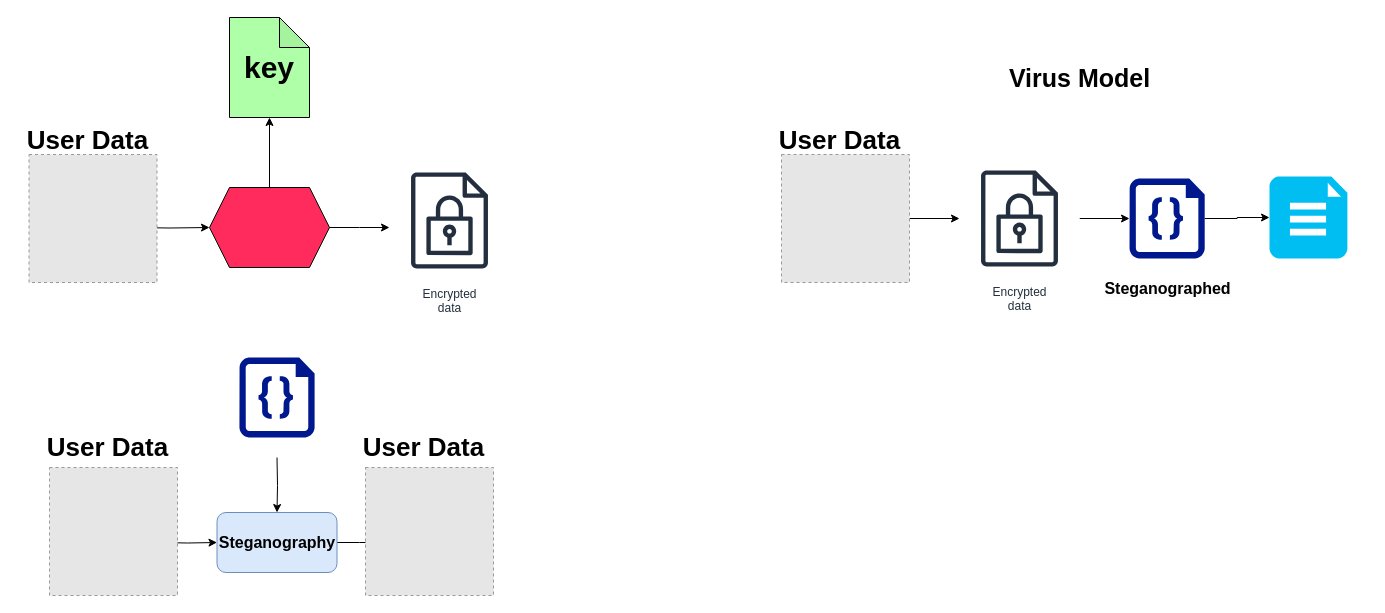
Some shapes in this 1385 by 613 pixel diagram are drawn without their labels. Grey dashed boxes stand in for pictures. Each missing label, with the centre of its shape:
"Encrypt" goes at point 269,227.
"Final Product" goes at point 1308,217.
